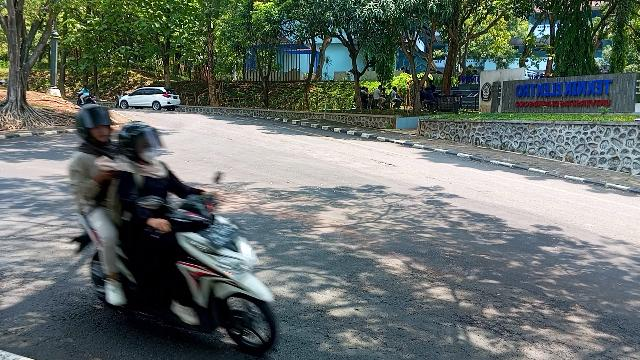helm: (119, 123, 161, 163), (79, 104, 112, 144)
motor: (72, 199, 281, 356)
